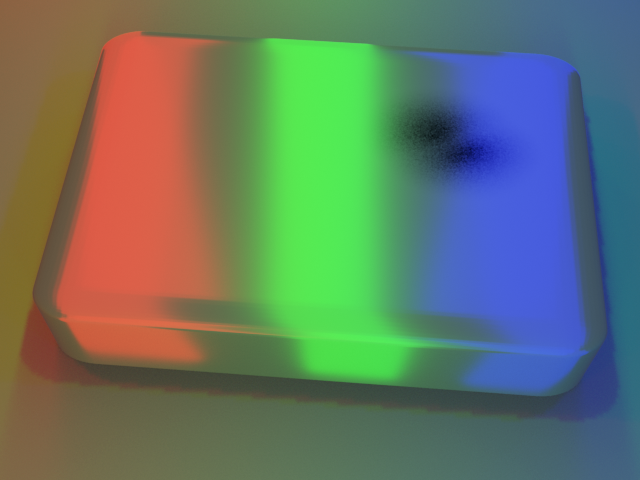stain: (344, 68, 581, 196)
